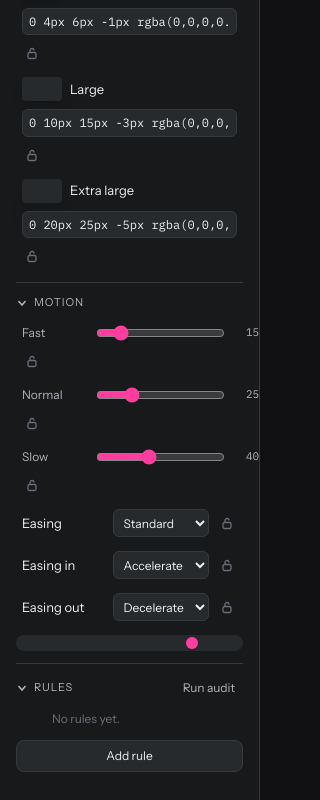
it: the audit has a human path (D-189) › runs from the Rules header and reports findings
(page scrolled)
Click the button "Run audit": (209, 688) [175,676,243,700]
(page scrolled)
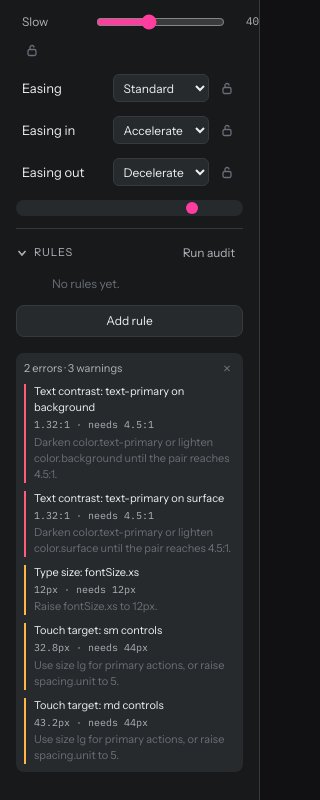
Check: the message named "Audit results" shows "errors", box [30,360,66,374]
Check: the text "Text contrast: text-primary on background" is shown, box [34,384,184,414]
